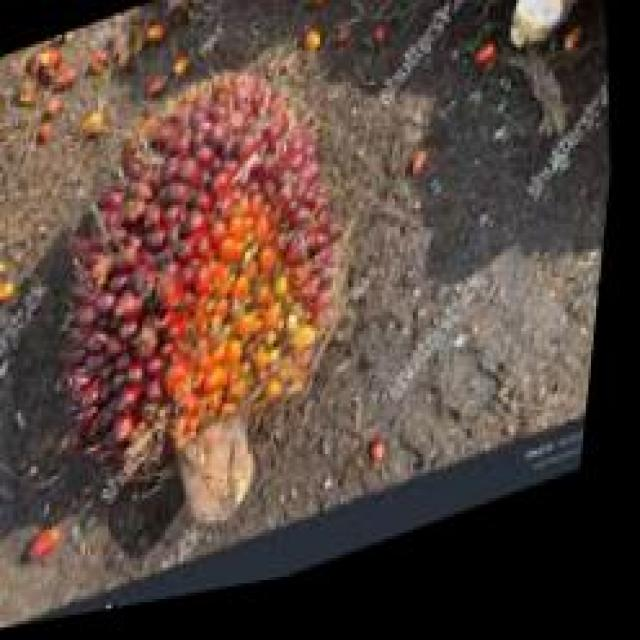Ripefruit: (30, 35, 396, 568)
